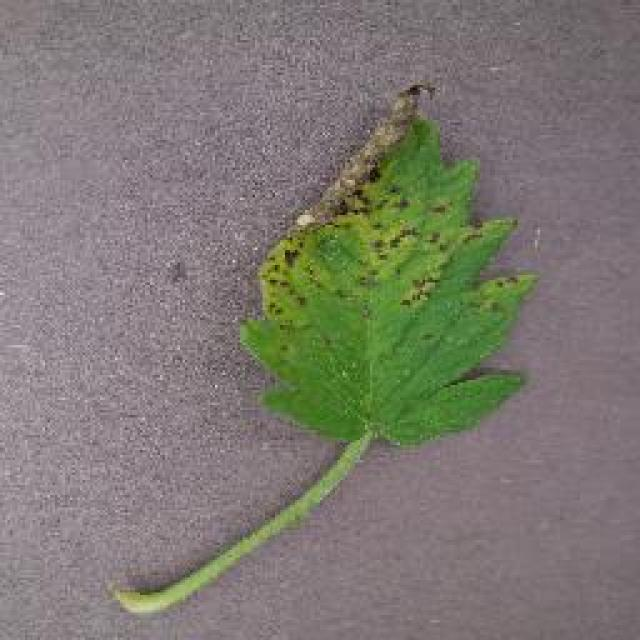Tom_Septoria_leaf_spot: (249, 120, 485, 319)
